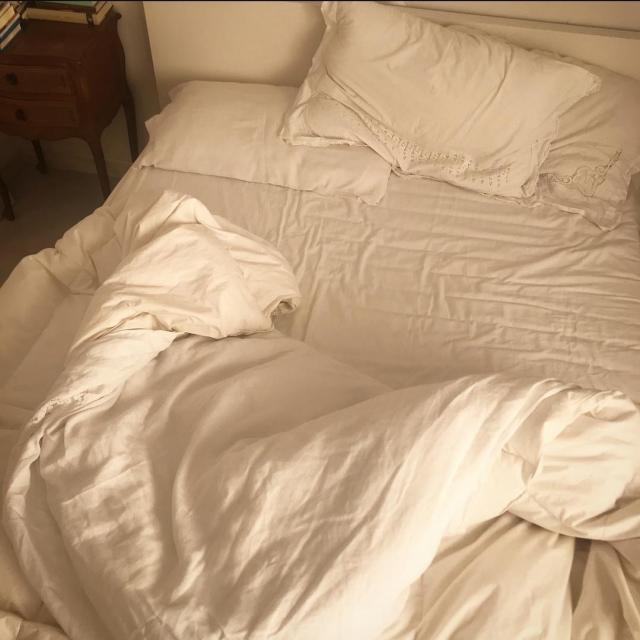bed: (33, 15, 638, 640)
